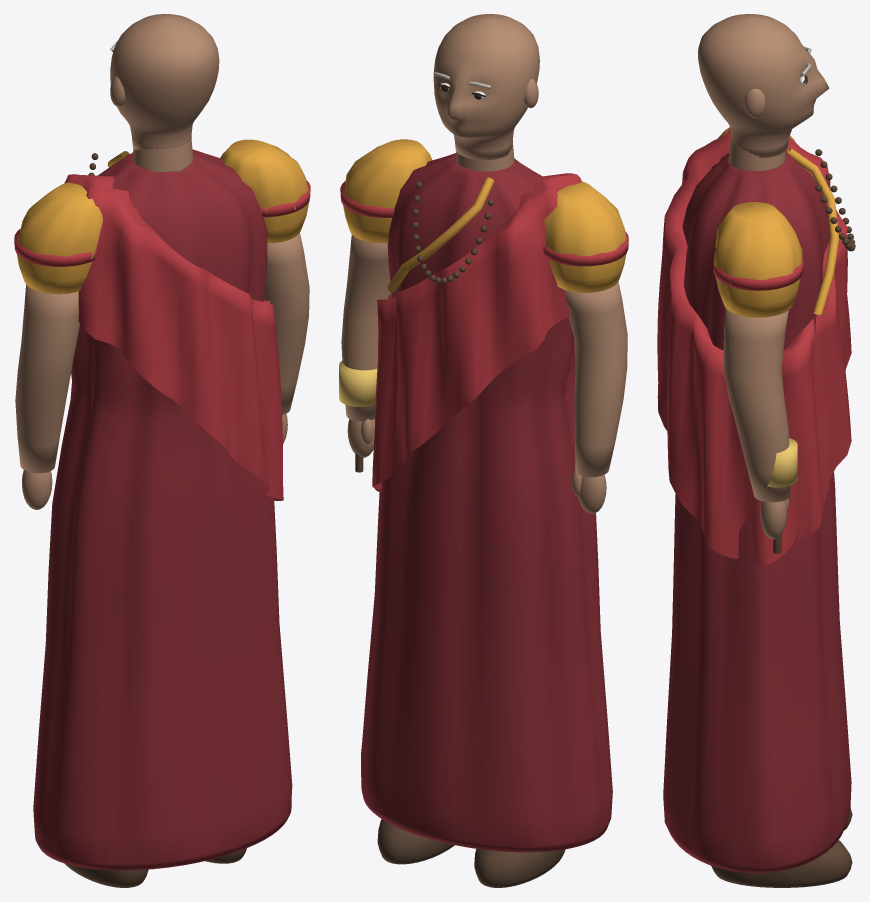
Rendered from Guide.fbx.
The picture shows the model from 3 angles, left to right: view 1: azimuth 30°, elevation 25°; view 2: azimuth 150°, elevation 25°; view 3: azimuth 270°, elevation 25°; orthographic projection. The views are drawn at different scales.
Parts seen in each view (by area): view 1: Guide; view 2: Guide; view 3: Guide.
Boxes of the visible parts, left/top/right/bottom form: Guide: left=14, top=14, right=310, bottom=887; Guide: left=339, top=14, right=628, bottom=887; Guide: left=657, top=14, right=855, bottom=887.
Bounding box in the file's own units: 60.2 × 36.83 × 170.
